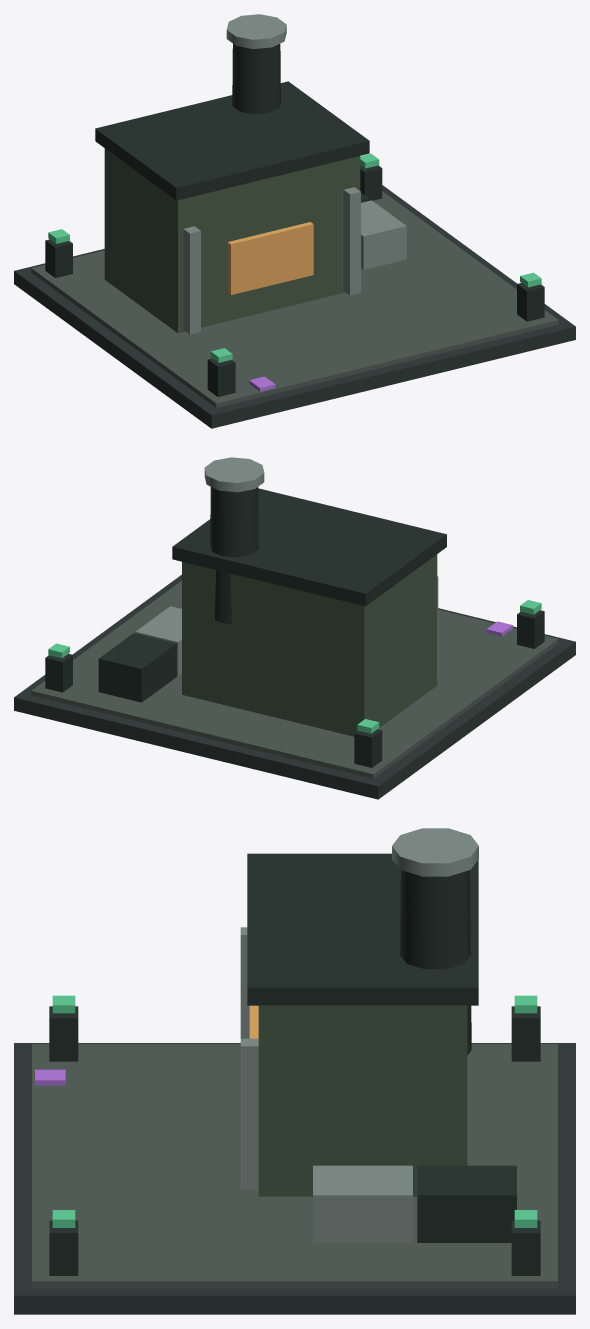
The model's file is highland_l01.glb.
3 renders of one model, top to bottom at view 1: azimuth 30°, elevation 25°; view 2: azimuth 150°, elevation 25°; view 3: azimuth 270°, elevation 25°, orthographic. The views are drawn at different scales.
Parts seen in each view (by area): view 1: highland_l01; view 2: highland_l01; view 3: highland_l01.
Part boxes in pixels (bbox=[...]): highland_l01: bbox=[14, 14, 575, 428]; highland_l01: bbox=[14, 457, 575, 799]; highland_l01: bbox=[14, 828, 575, 1314].
Bounding box in the file's own units: 6.6 × 4.26 × 6.2.
